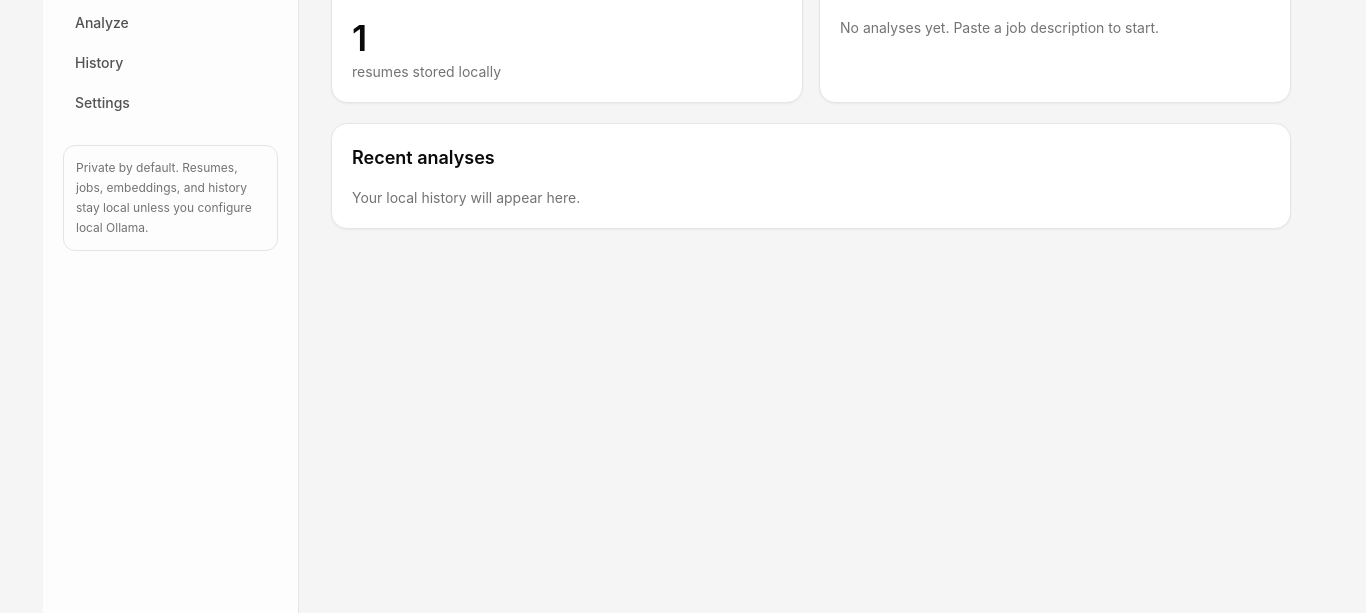
Test case: analyzes a job description and shows ranked evidence
The width and height of the screenshot is (1366, 613).
Click the button "Analyze" at (170, 23), box [63, 5, 278, 41]
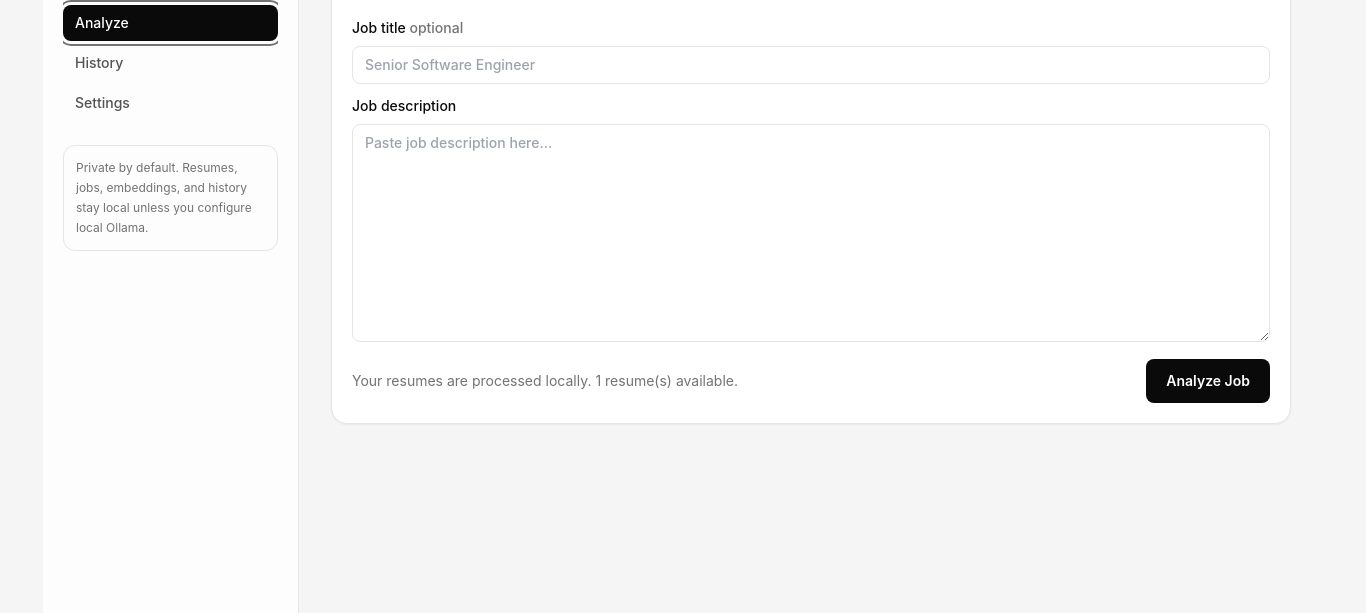
Type "Backend Engineer" into the field with placeholder "Senior Software Engineer" at (811, 65), box [352, 46, 1270, 84]
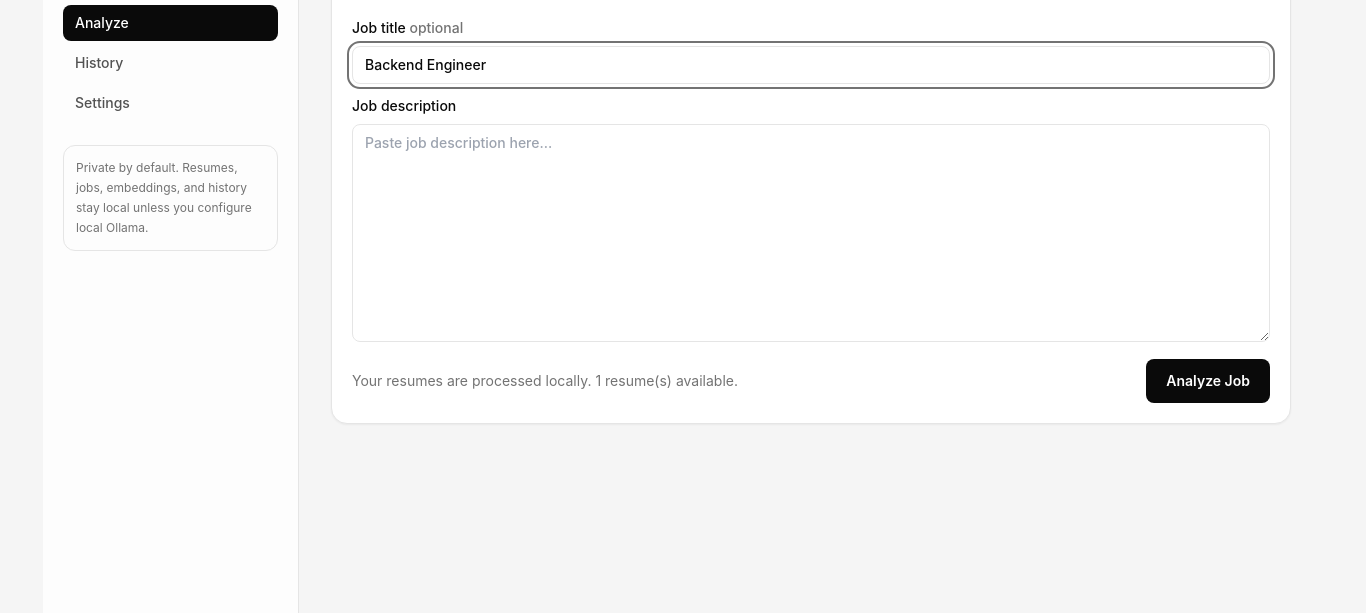
Type "Required: Python. Preferred: React. Build services with 5 years experience." into the text box with placeholder "Paste job description here..." at (811, 233), box [352, 124, 1270, 342]
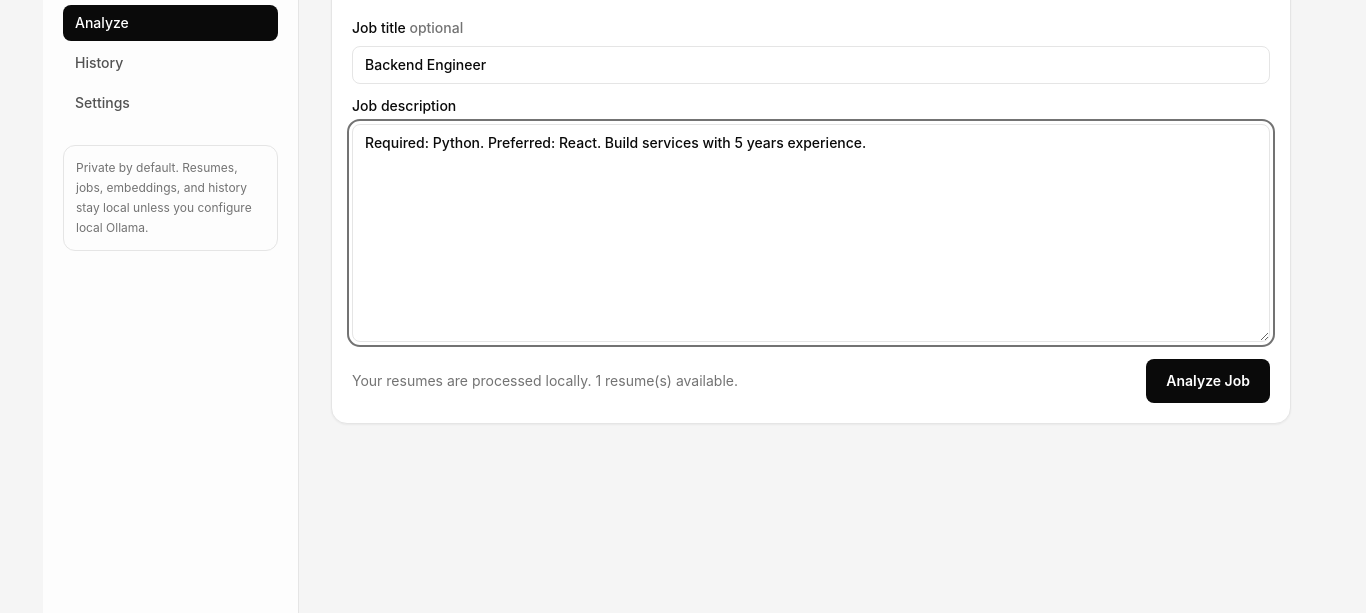
Click the button "Analyze Job" at (1208, 381), box [1146, 359, 1270, 403]
(page scrolled)
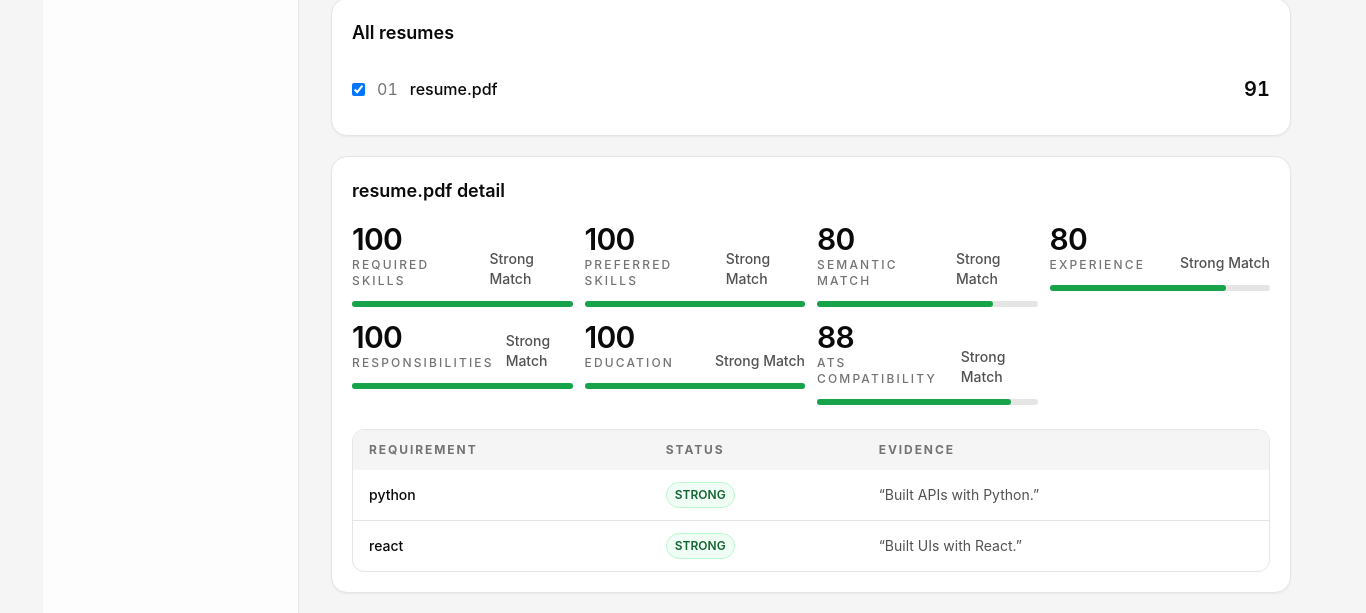
Check: the text "“Built APIs with Python.”" is shown, box [863, 470, 1269, 520]
